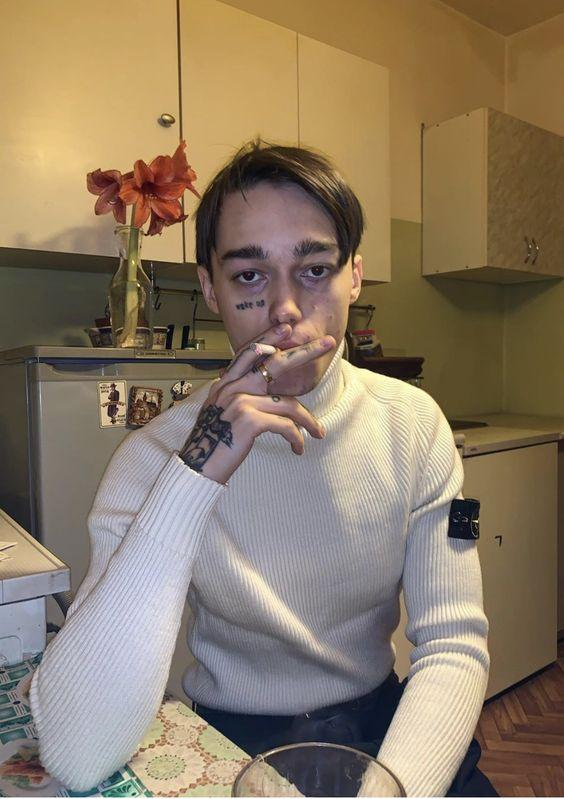cigarette: (251, 343, 279, 355)
